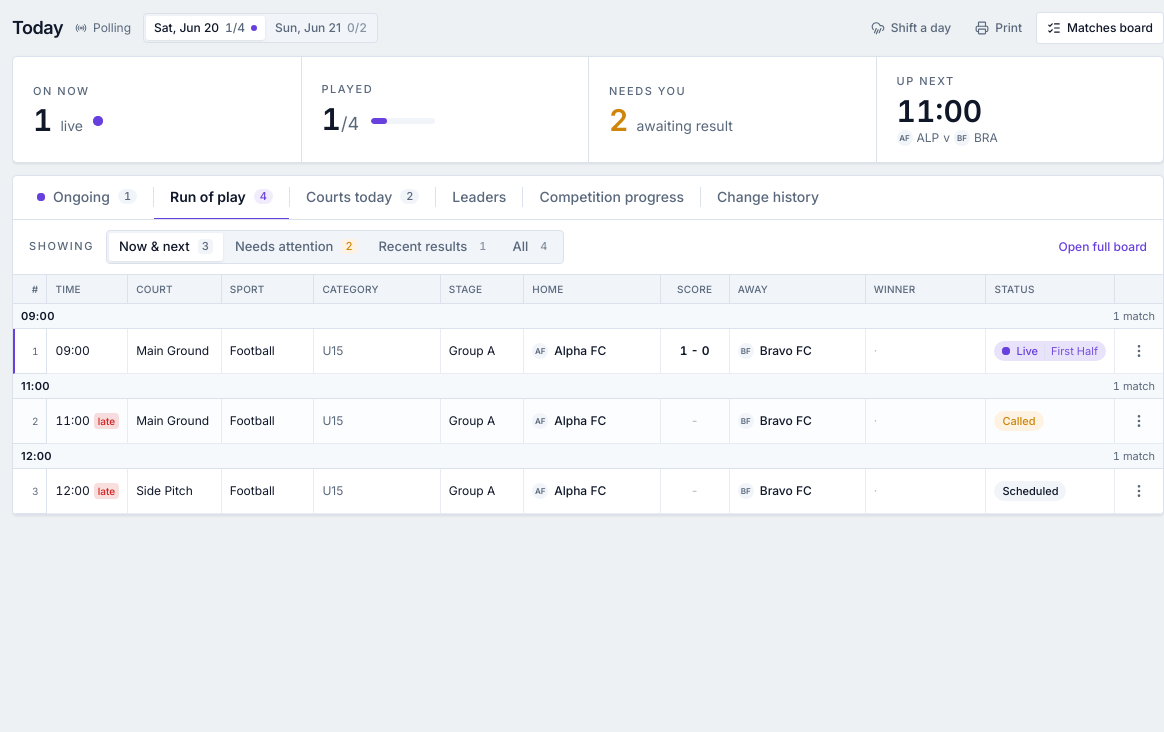
Test: ControlRoomPage › floats the row actions menu clear of the board it opens from
The image size is (1164, 732).
Click the tab with test id "board-tab-live": x=87, y=198 top-left (21, 176), bottom-right (153, 220)
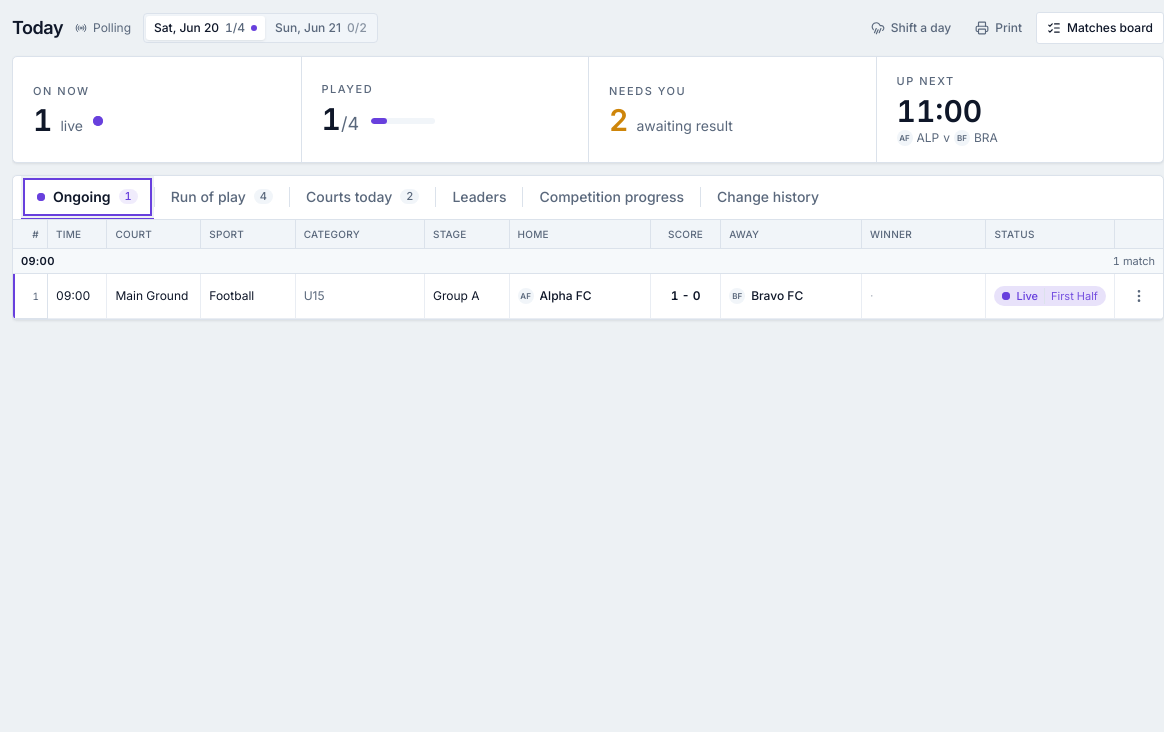
Click the button with test id "actions-m1": x=1139, y=296 top-left (1123, 280), bottom-right (1155, 312)
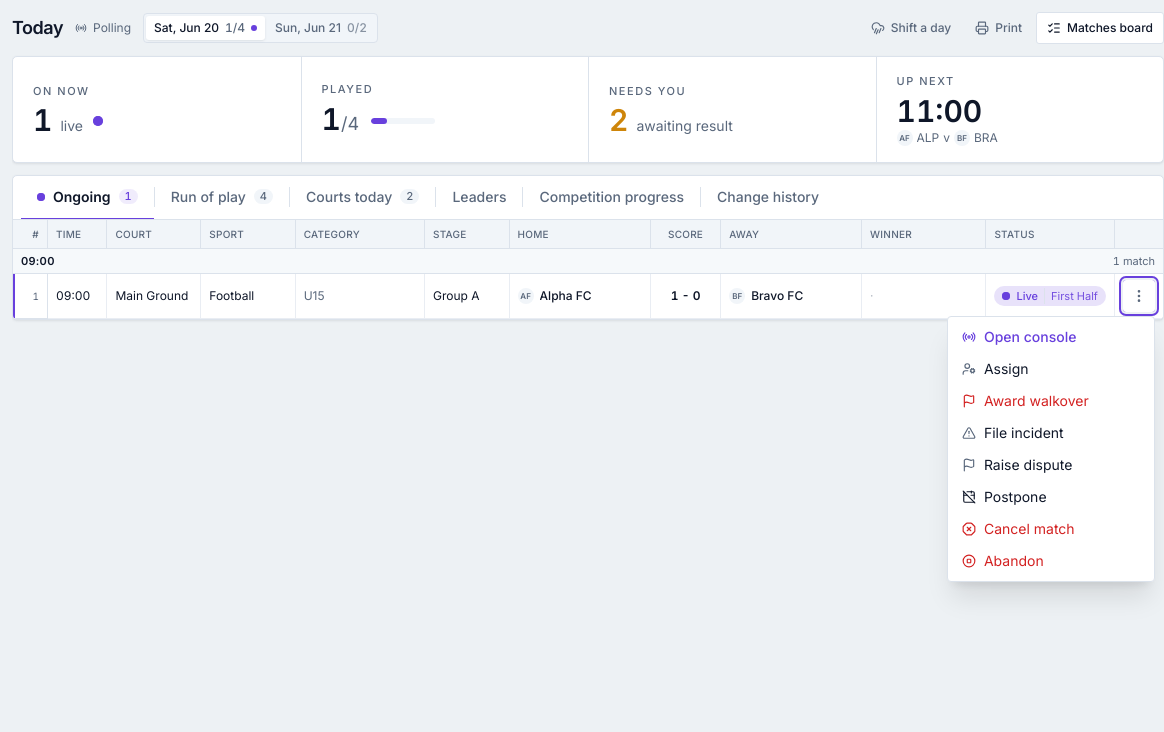
Check: the menu with test id "actions-menu-m1" is shown, box top-left (947, 316), bottom-right (1155, 582)
// Escape closes it, like every other overlay in the app.
Press Escape
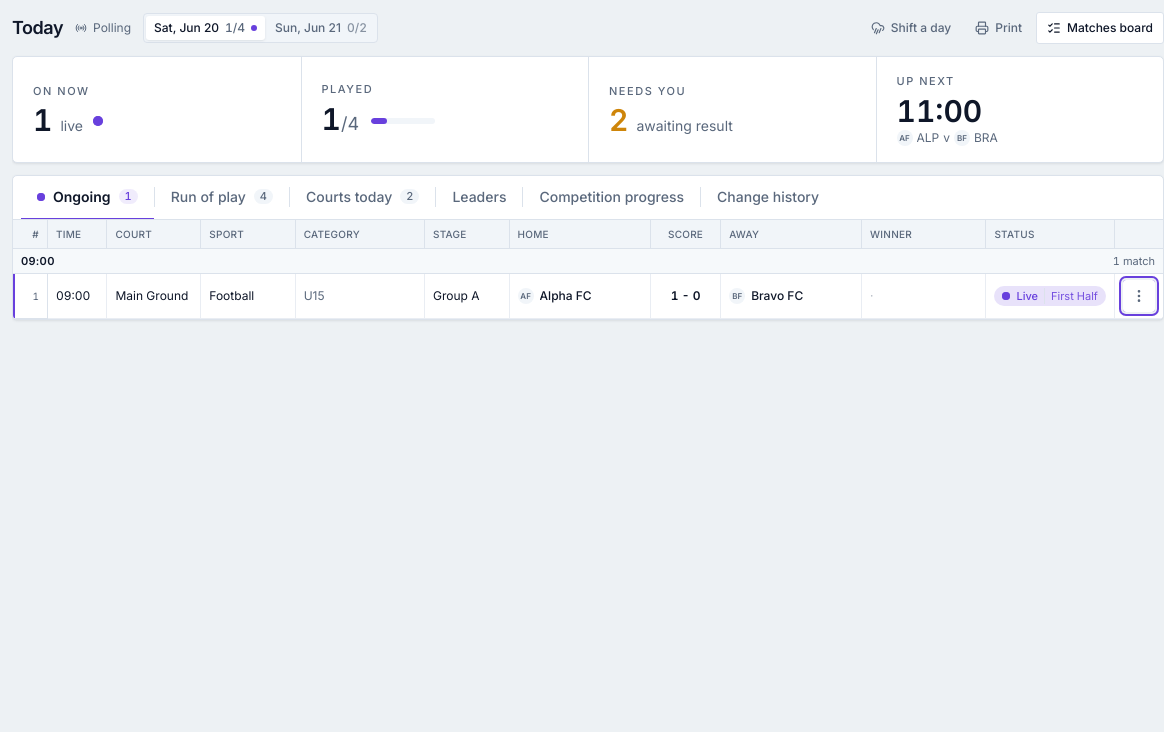
Check: the menu with test id "actions-menu-m1" is gone
